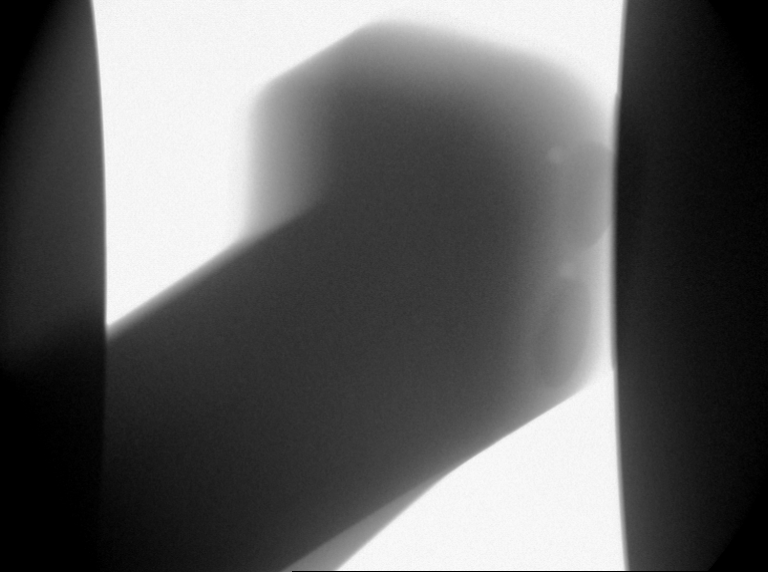defect: (555, 257, 580, 281)
